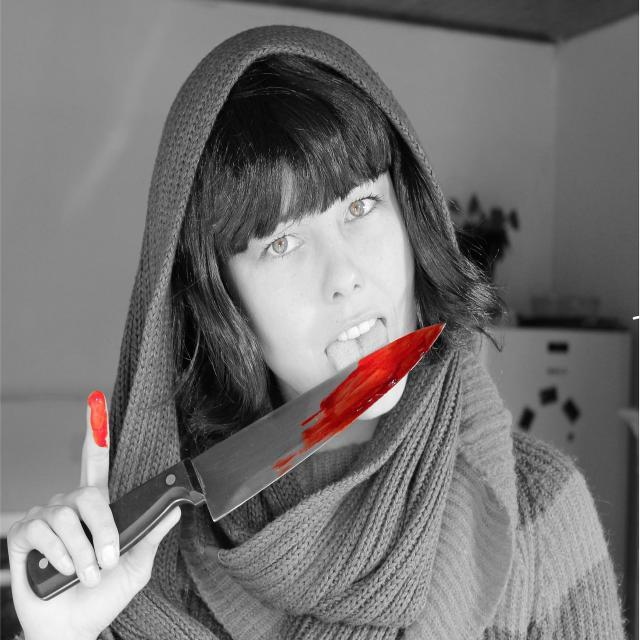Knife: (110, 324, 444, 553), (26, 551, 79, 599)
